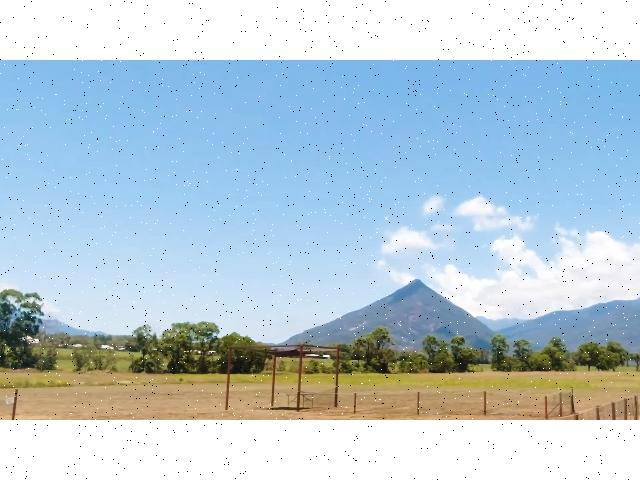Anti-Drone: (380, 211, 394, 226)
